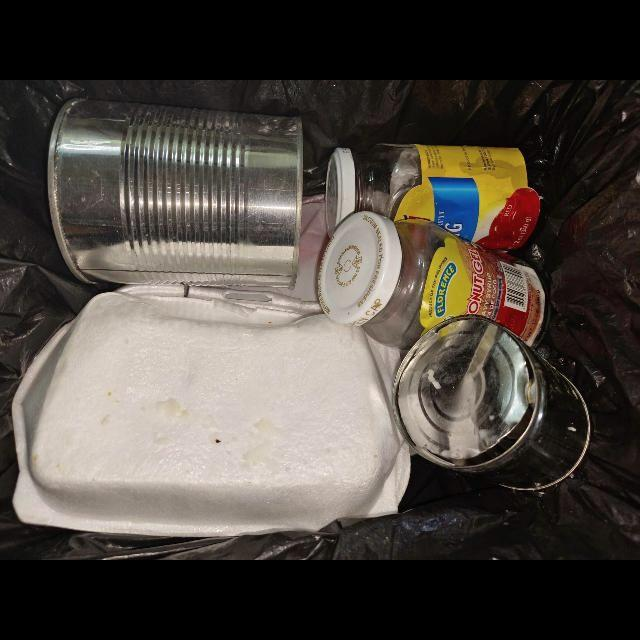aluminum: (47, 99, 302, 291), (393, 316, 591, 491)
glass_bottle: (316, 211, 546, 350), (325, 143, 540, 251)
